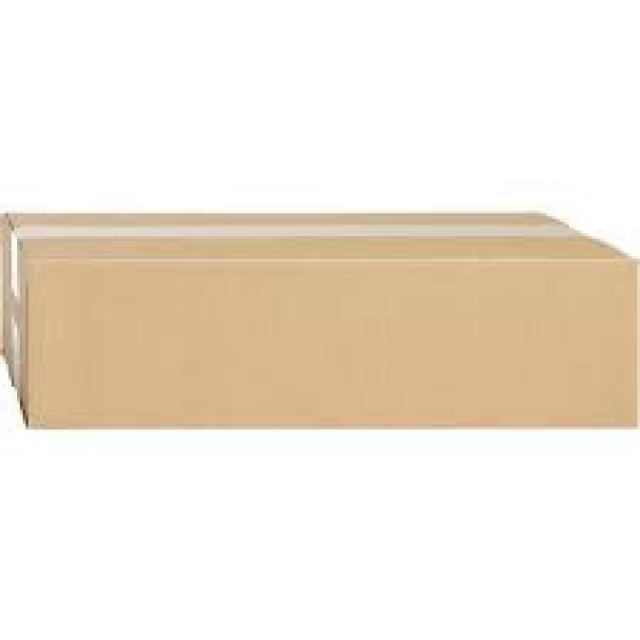Cardboard Paper: (0, 188, 640, 466)
